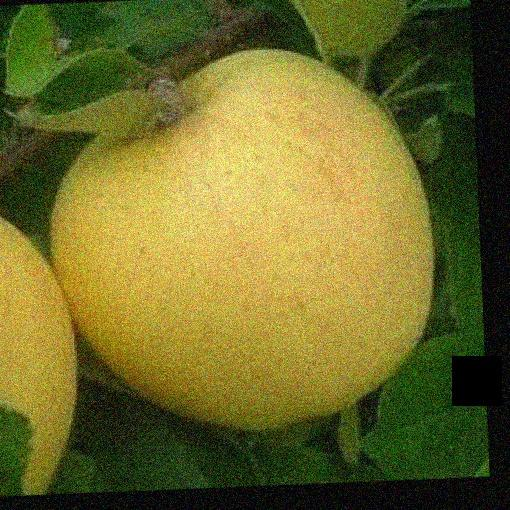green apple: (49, 43, 450, 438)
